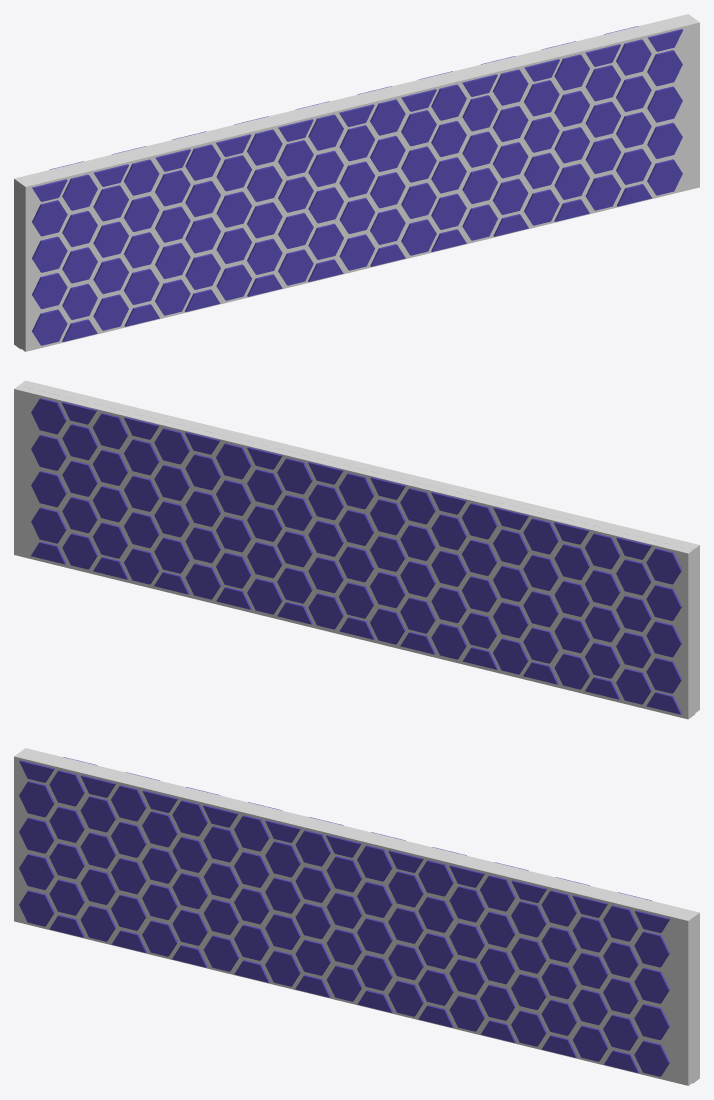
The model's file is ciftyuzluduvaruzun.fbx.
3 views of the same model, one above another, from view 1: azimuth 30°, elevation 25°; view 2: azimuth 150°, elevation 25°; view 3: azimuth 330°, elevation 25° (orthographic).
Visible parts, largest first — view 1: Cube.007; view 2: Cube.007; view 3: Cube.007.
Part boxes in pixels (x1,y1,x2,y2): Cube.007: (14,14,699,351); Cube.007: (14,380,699,719); Cube.007: (14,748,699,1085).
Size of the model in its own units: 4351 by 1023 by 158.
